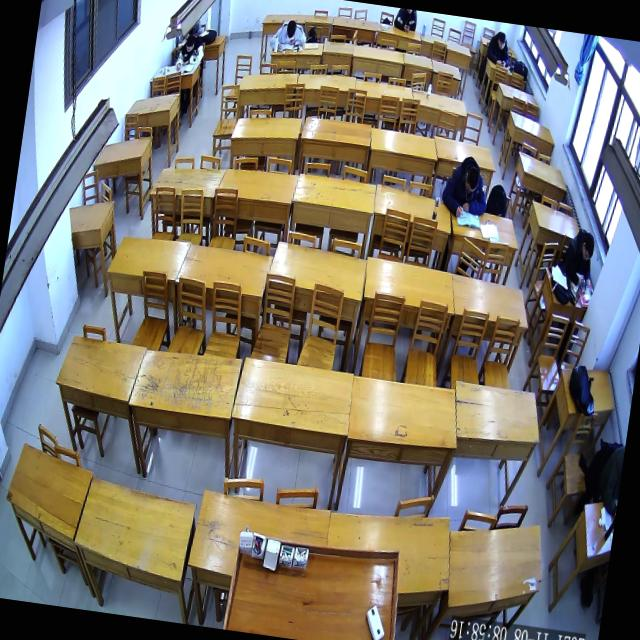bow: (440, 154, 492, 221), (270, 18, 308, 52)
down: (464, 166, 481, 195), (580, 232, 596, 262), (184, 34, 196, 53), (286, 20, 297, 40), (497, 32, 507, 51)
sit: (560, 228, 598, 286), (175, 34, 208, 74), (485, 31, 514, 68)
